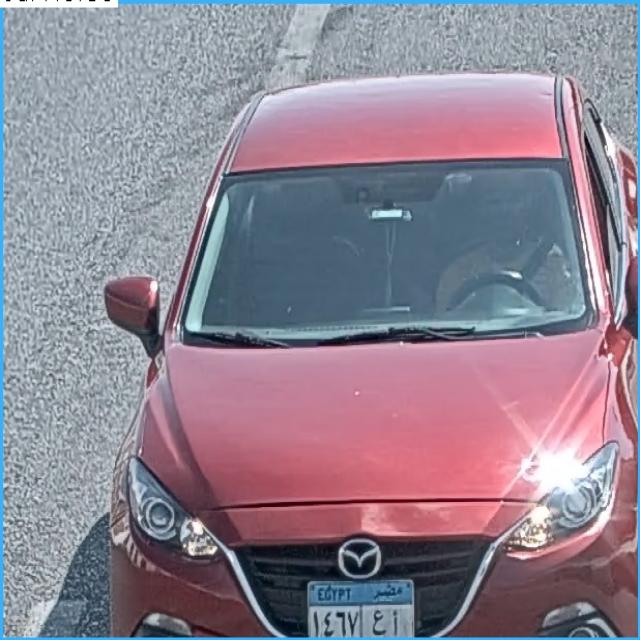windshield: (186, 165, 592, 334)
